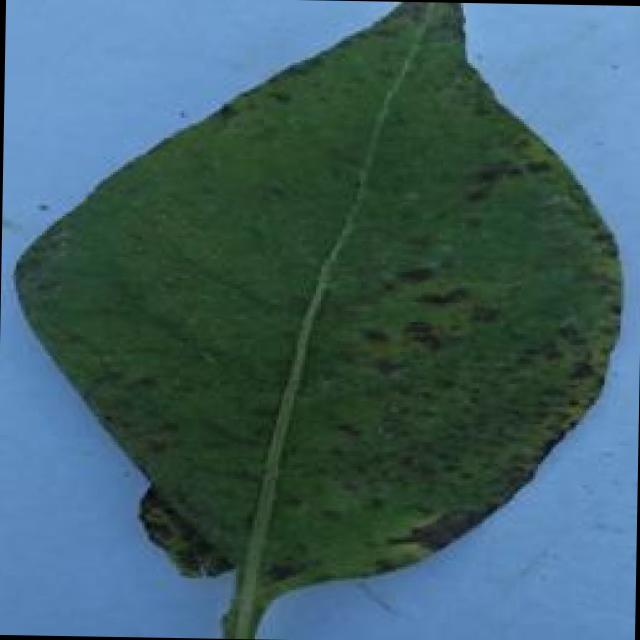Potato_Early_Blight: (4, 12, 638, 608)
